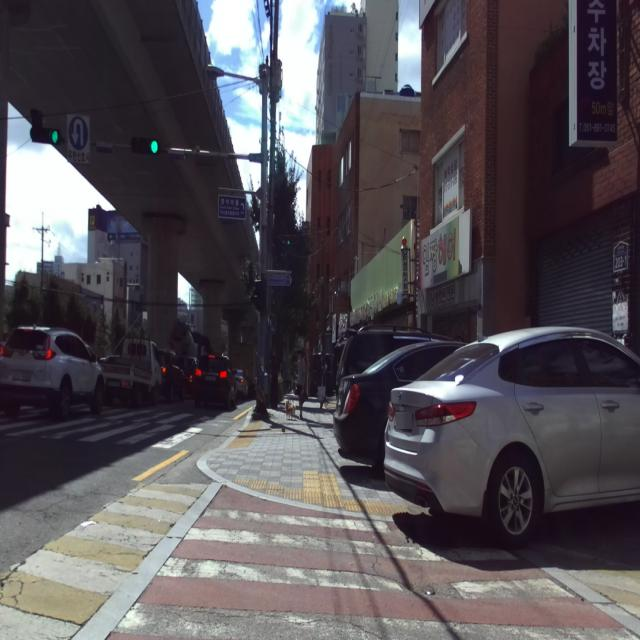횡단보도: (111, 508, 640, 640), (0, 399, 203, 454)
